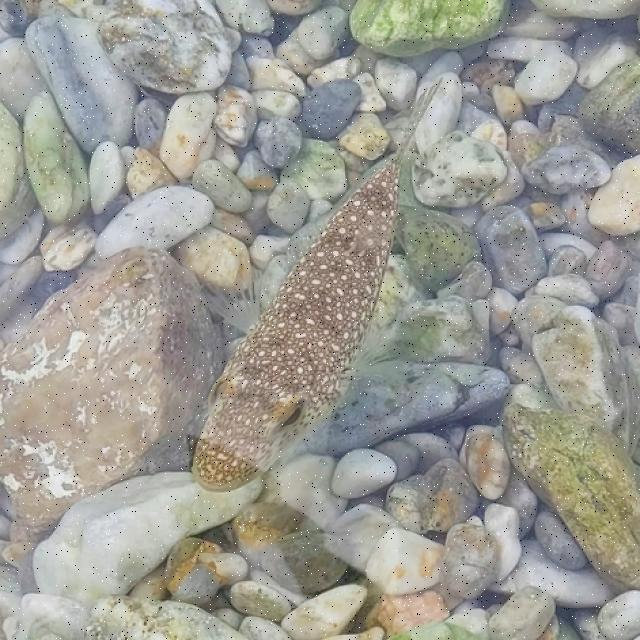Balik: (193, 85, 437, 491)
